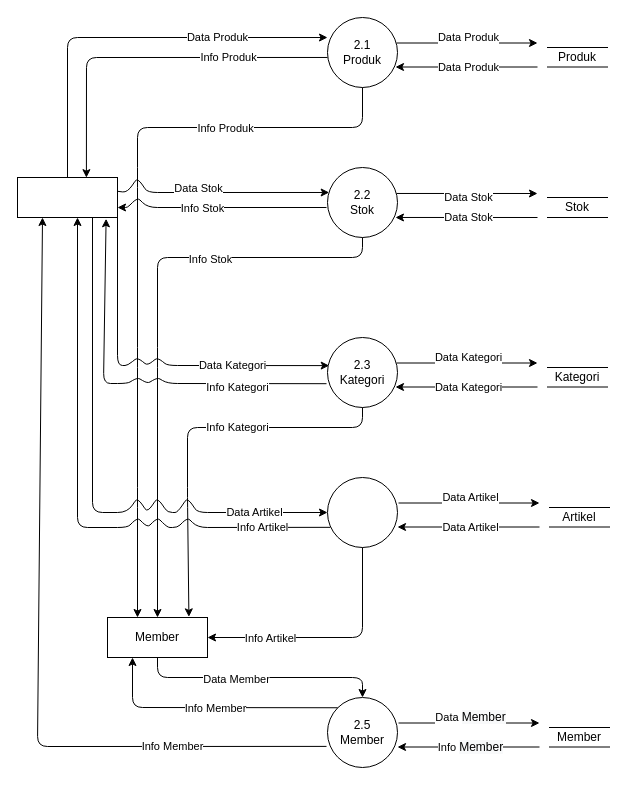
Image size: 627x785. Some labels were removed from this diagram. Here are the shapes that lost their labels. From the top down, the centre of each, then its label:
point 67,197: Admin
point 362,512: 2.4 Artikel
